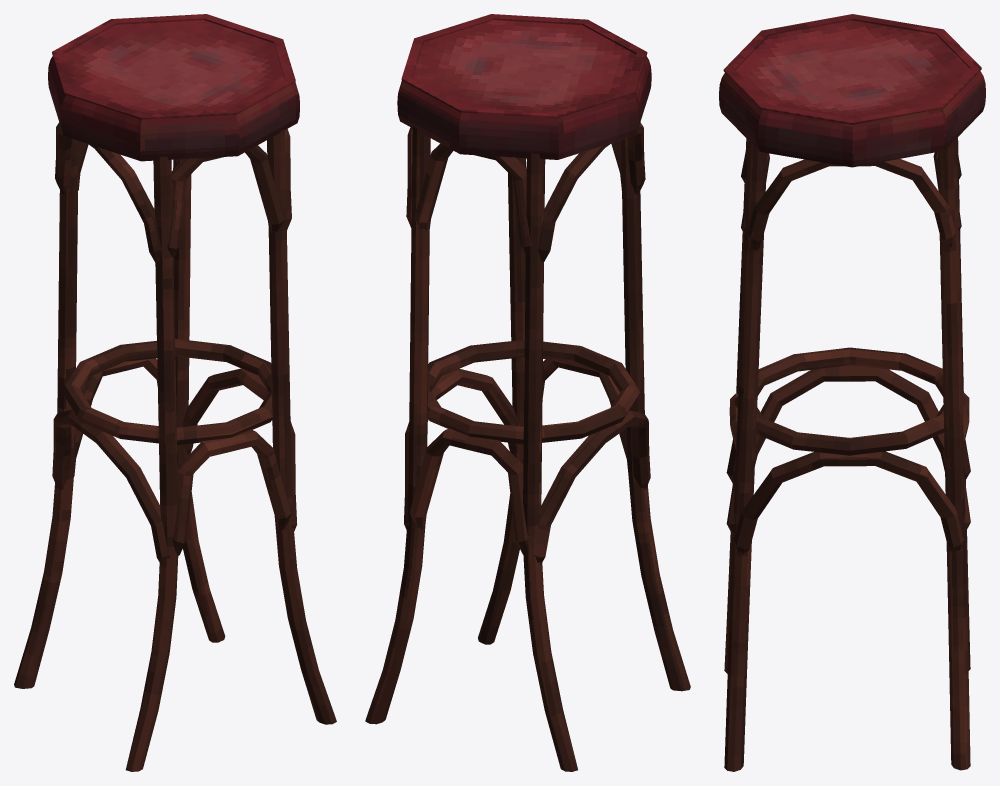
The model's file is E_BarChair.fbx.
3 views of the same model, side by side, from view 1: azimuth 30°, elevation 25°; view 2: azimuth 150°, elevation 25°; view 3: azimuth 270°, elevation 25° (orthographic). The views are drawn at different scales.
Parts seen in each view (by area): view 1: chair; view 2: chair; view 3: chair.
Boxes of the visible parts, x1,y1,x2,y2 form: chair: (14, 14, 336, 771); chair: (365, 14, 690, 771); chair: (719, 14, 985, 771).
Bounding box in the file's own units: 78.82 × 212 × 78.71.
